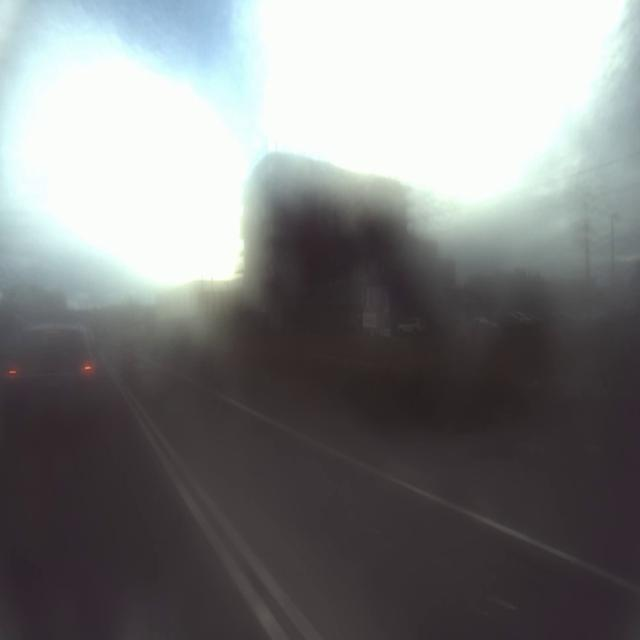car: (4, 316, 100, 440)
